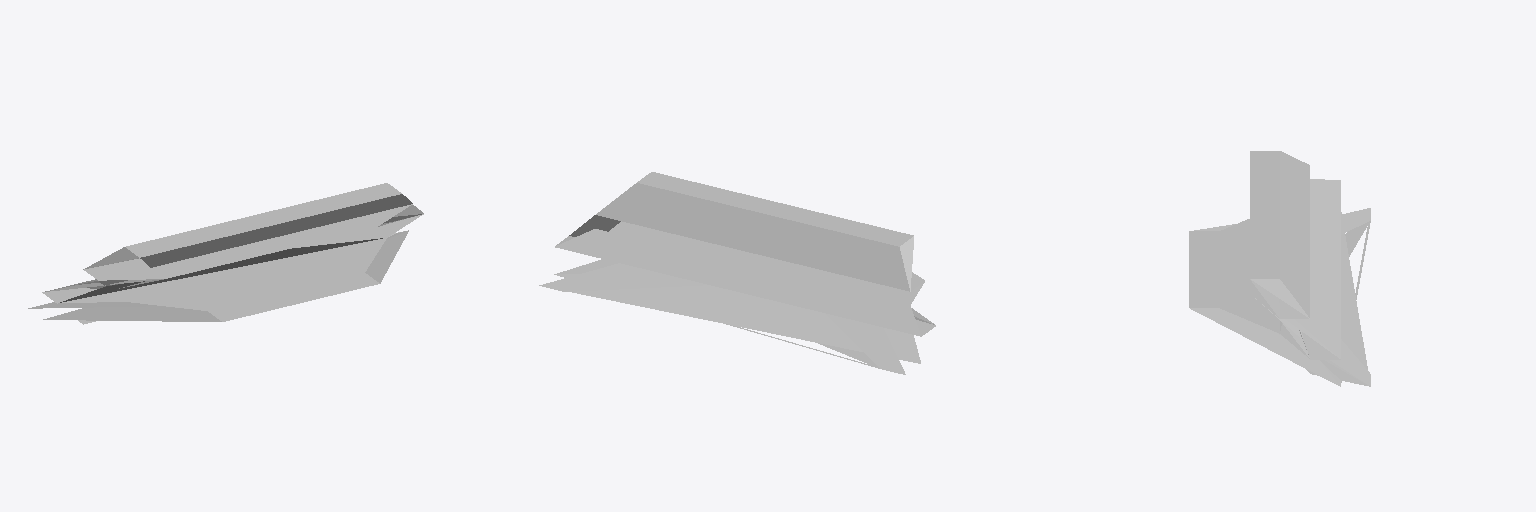
File: chr_rain.obj
3 views of the same model, side by side, from view 1: azimuth 30°, elevation 25°; view 2: azimuth 150°, elevation 25°; view 3: azimuth 270°, elevation 25° (orthographic).
Size of the model in its own units: 14 by 3 by 6.